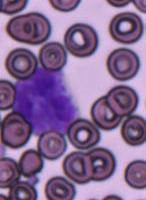E: (12, 66, 81, 136)
